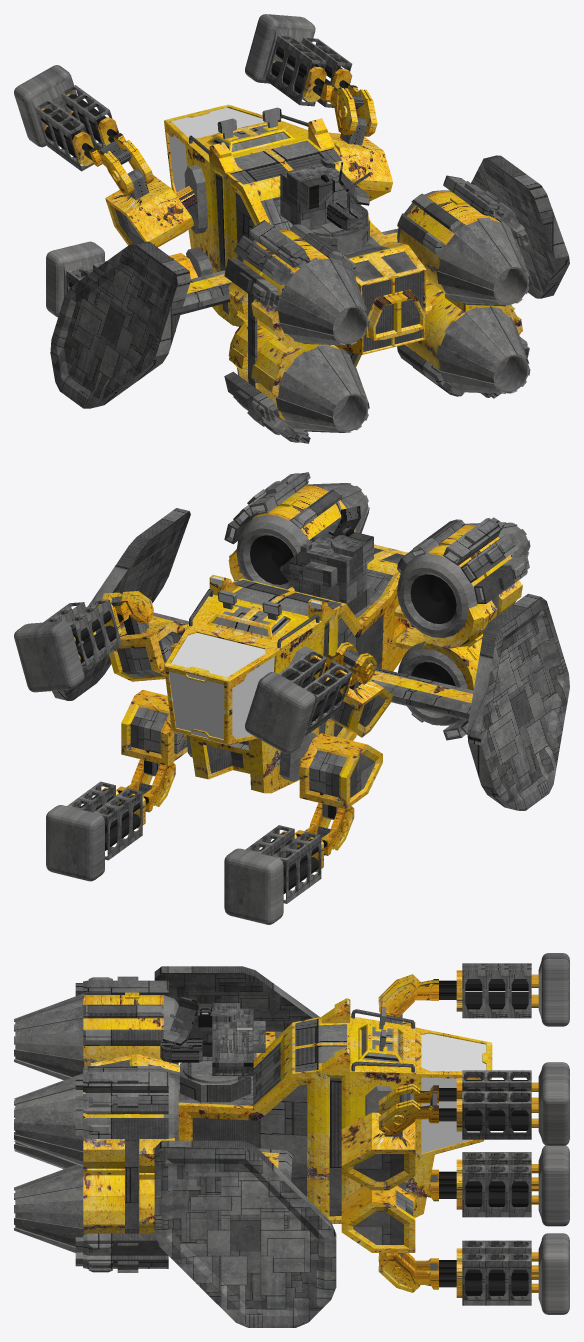
Rendered from TugStarShip.fbx.
3 renders of one model, top to bottom at view 1: azimuth 30°, elevation 25°; view 2: azimuth 150°, elevation 25°; view 3: azimuth 270°, elevation 25°, orthographic.
Parts seen in each view (by area): view 1: Cube.011, Cube.007, Cylinder.003, Circle.001, Circle; view 2: Cube.011, Cylinder.003, Cube.007, Circle.001, Cube.003; view 3: Cube.011, Cylinder.003, Cube.007, Circle.001, Circle.
Boxes of the visible parts, <box> form: Cube.011: <box>50,104,569,408</box>; Cube.007: <box>224,175,530,443</box>; Cylinder.003: <box>14,14,393,332</box>; Circle.001: <box>280,157,371,236</box>; Circle: <box>318,220,369,254</box>; Cube.011: <box>52,508,569,810</box>; Cylinder.003: <box>14,591,392,924</box>; Cube.007: <box>224,472,530,740</box>; Circle.001: <box>280,502,373,603</box>; Cube.003: <box>250,535,456,686</box>; Cube.011: <box>90,966,492,1327</box>; Cylinder.003: <box>341,953,569,1314</box>; Cube.007: <box>14,976,178,1272</box>; Circle.001: <box>160,996,265,1083</box>; Circle: <box>180,1062,251,1102</box>.
Size of the model in its own units: 1186 by 623 by 1208.
